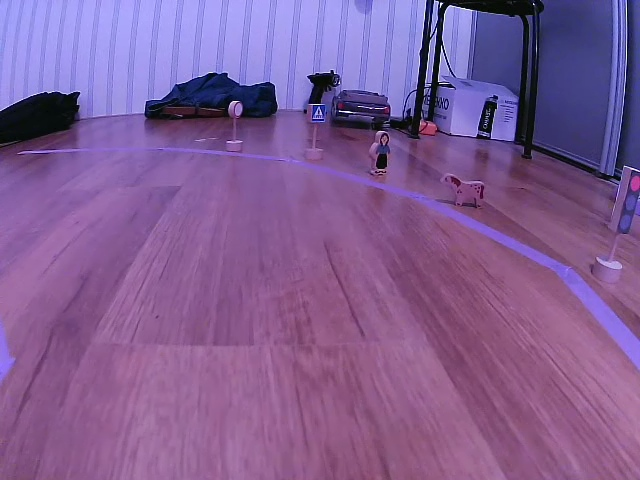mens: (369, 130, 392, 174)
paard: (440, 173, 486, 209)
roodlicht: (611, 164, 640, 239)
wegdicht: (229, 100, 244, 119)
zebrapad: (308, 104, 326, 123)
